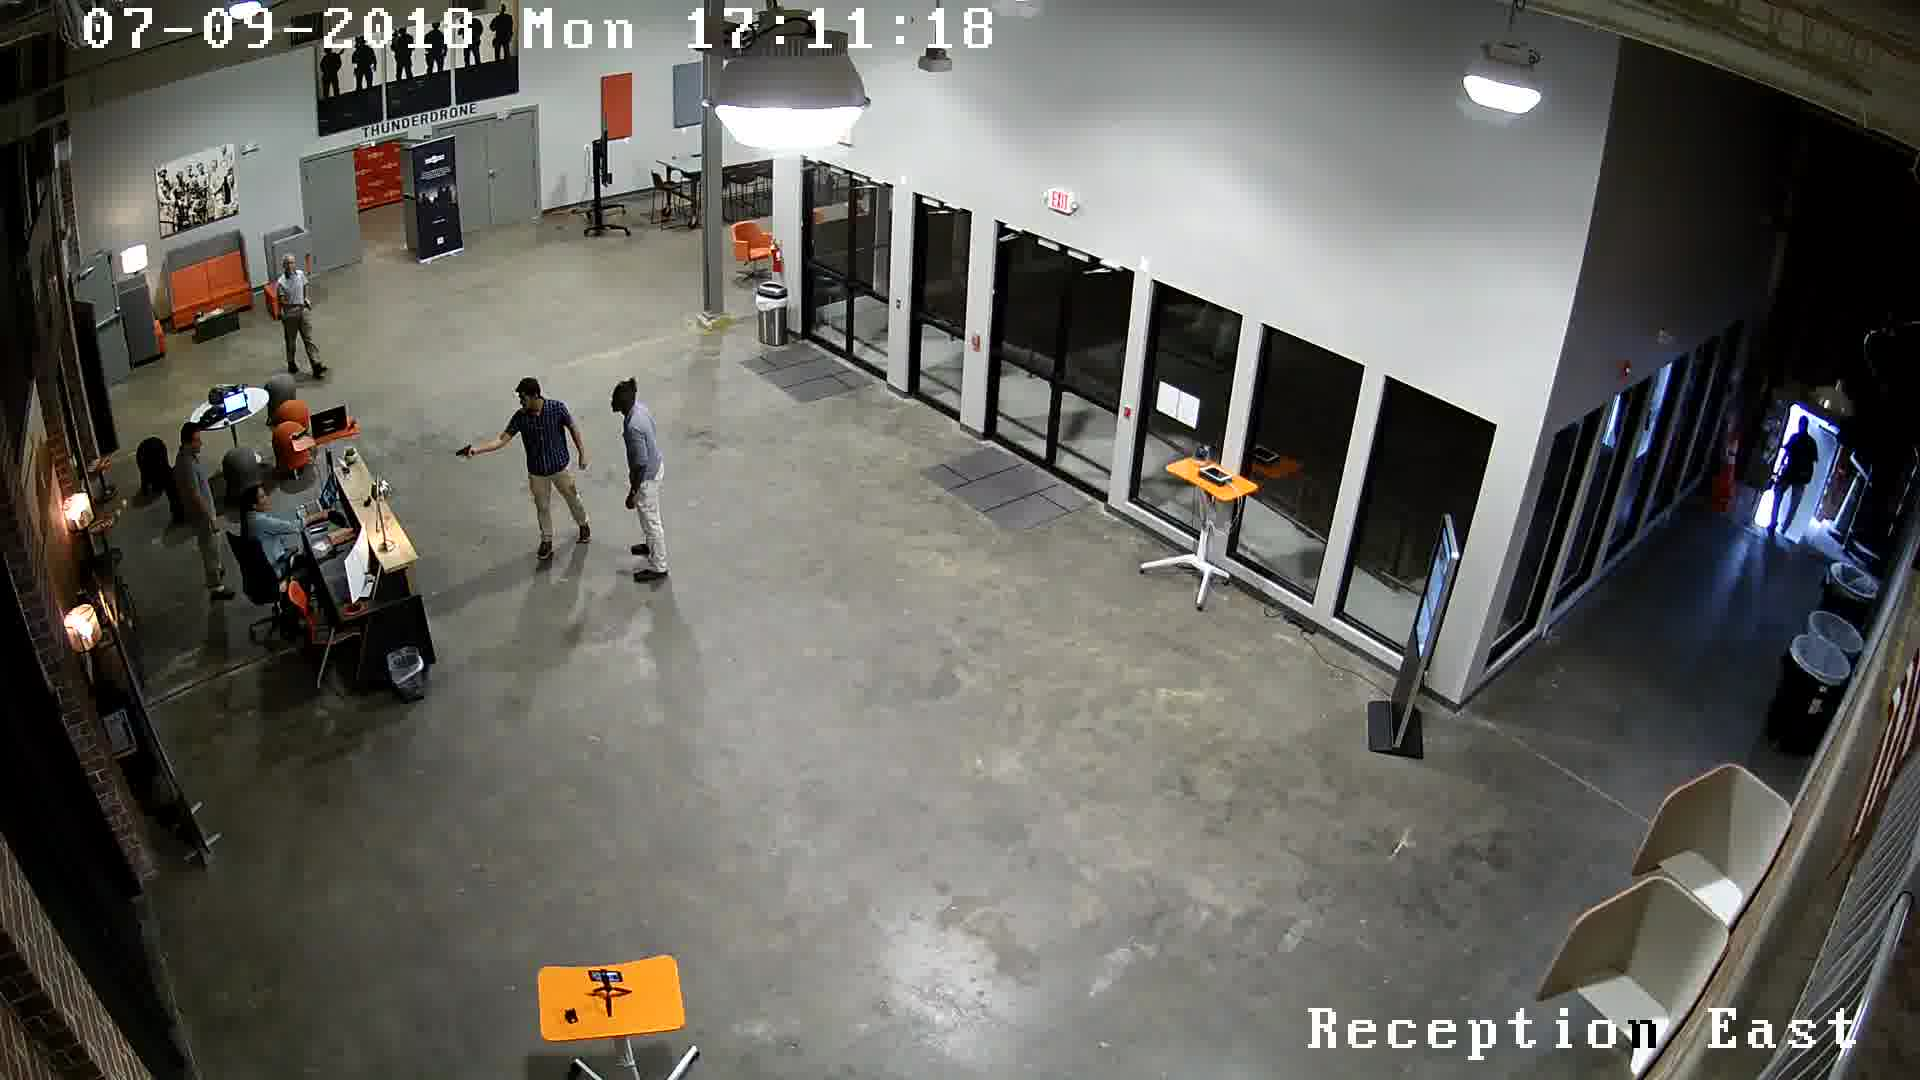pistol: (440, 430, 498, 481), (289, 291, 323, 320)
